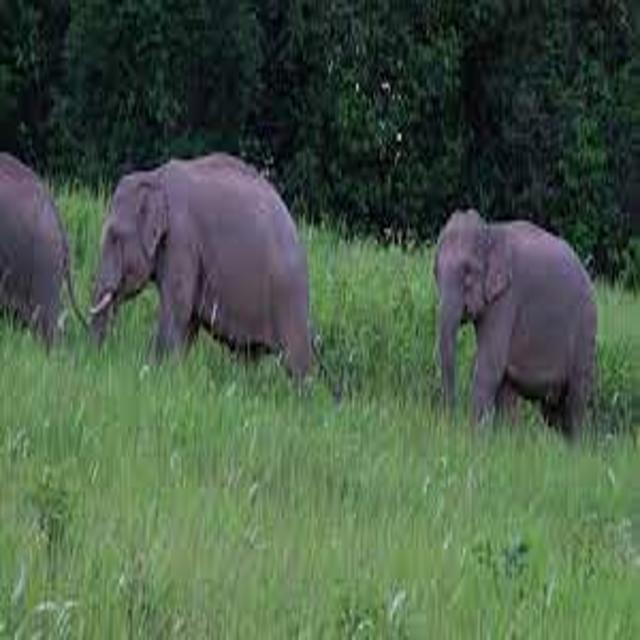Elephant: (66, 123, 352, 419), (426, 182, 618, 456)
